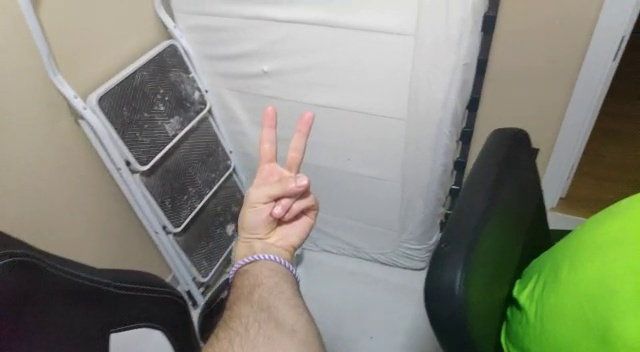Peace: (232, 102, 331, 247)
